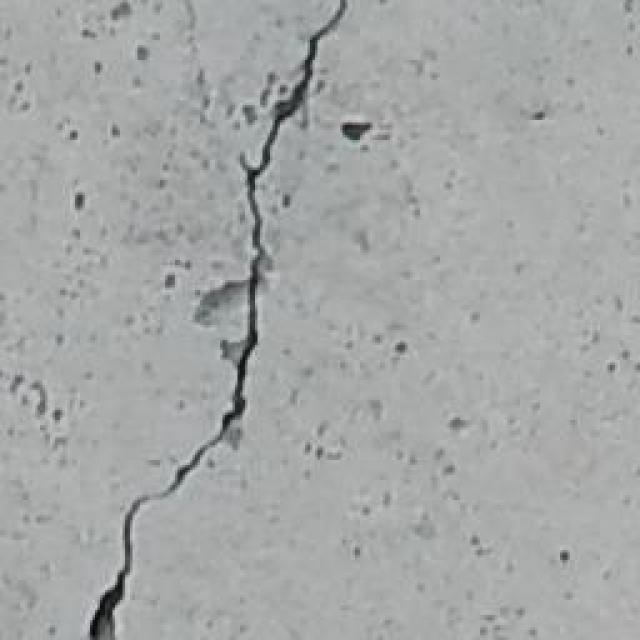concrete-crack: (88, 0, 348, 640), (341, 123, 377, 140)
